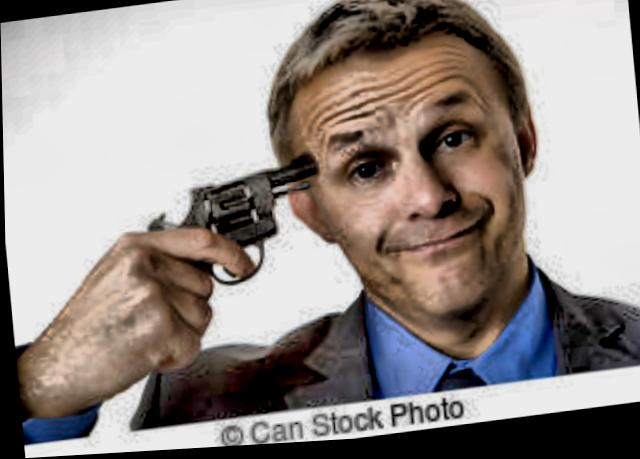pistol: (134, 149, 326, 295)
